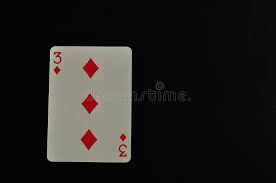three of diamonds: (47, 45, 135, 164)
